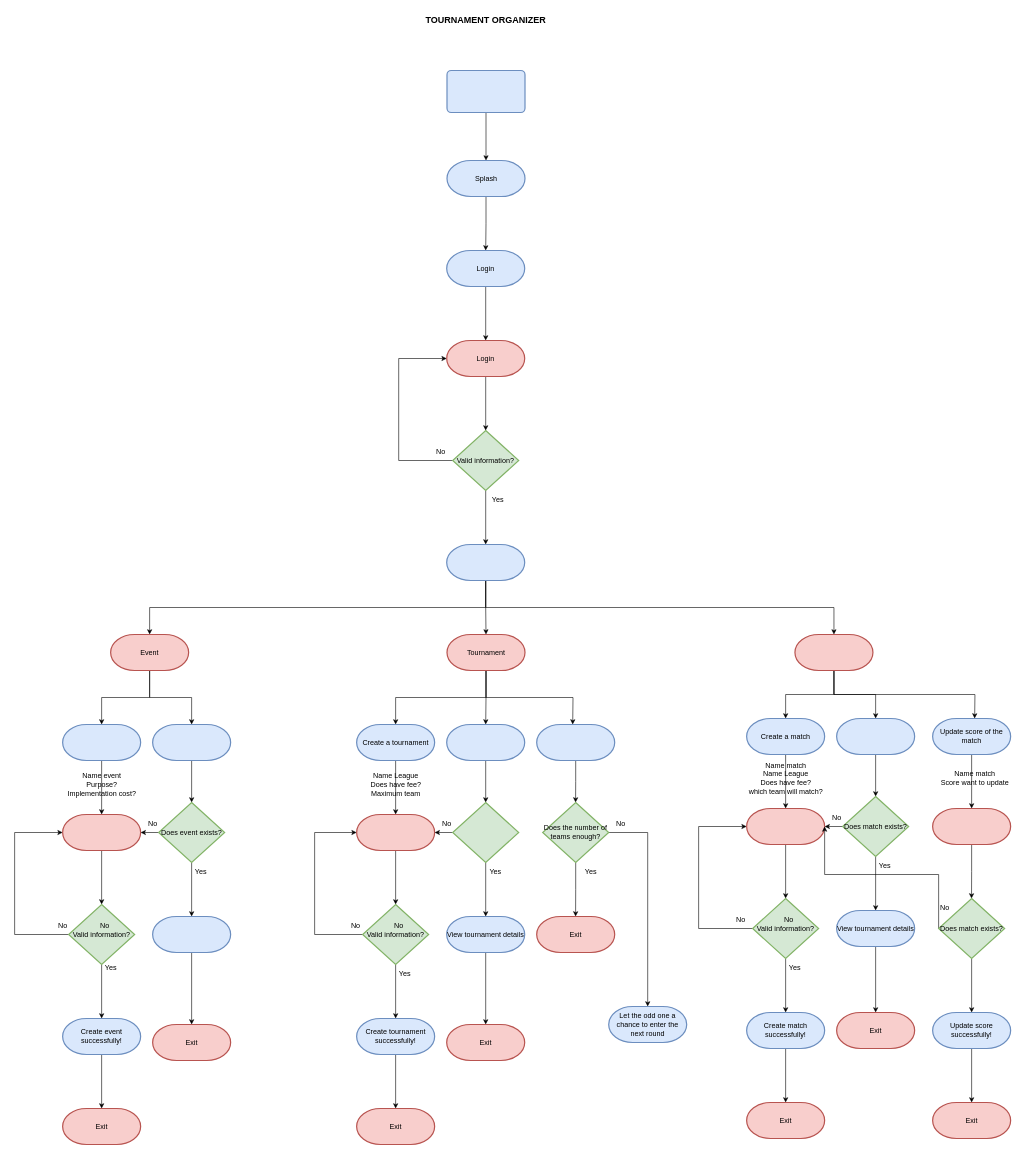
Some shapes in this 1027 by 1155 pixel diagram are drawn without their labels. The shapes that lost their labels are listed below. From the top down, each one's centre as x and y in pixels, then its label:
At (485,91): "Start".
At (485,562): "Home".
At (833,652): "Match".
At (101,742): "Create a event".
At (191,742): "Check overview of the event".
At (485,742): "Check overview of the tournament".
At (575,742): "Check if the number of teams is enough".
At (875,736): "Check overview of the match".
At (101,832): "Create event".
At (395,832): "Create tournament".
At (485,832): "Does tournament exists?".
At (785,826): "Create match".
At (971,826): "Update score".
At (191,934): "View event details".
